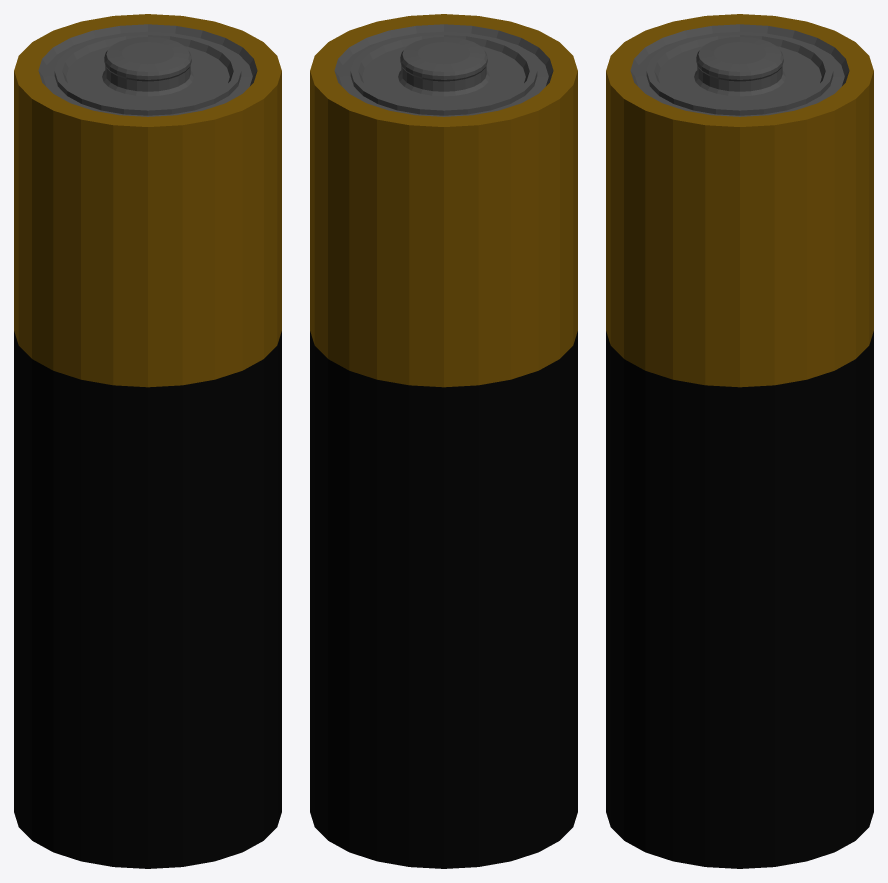
The model's file is pila.fbx.
3 renders of one model, left to right at view 1: azimuth 30°, elevation 25°; view 2: azimuth 150°, elevation 25°; view 3: azimuth 270°, elevation 25°, orthographic.
Visible parts, largest first — view 1: battery:Mesh; view 2: battery:Mesh; view 3: battery:Mesh.
Part boxes in pixels (x1=…): battery:Mesh: x1=14, y1=14, x2=281, y2=868; battery:Mesh: x1=310, y1=14, x2=577, y2=868; battery:Mesh: x1=606, y1=14, x2=873, y2=868.
Bounding box in the file's own units: 0.7843 × 2.53 × 0.7843.
